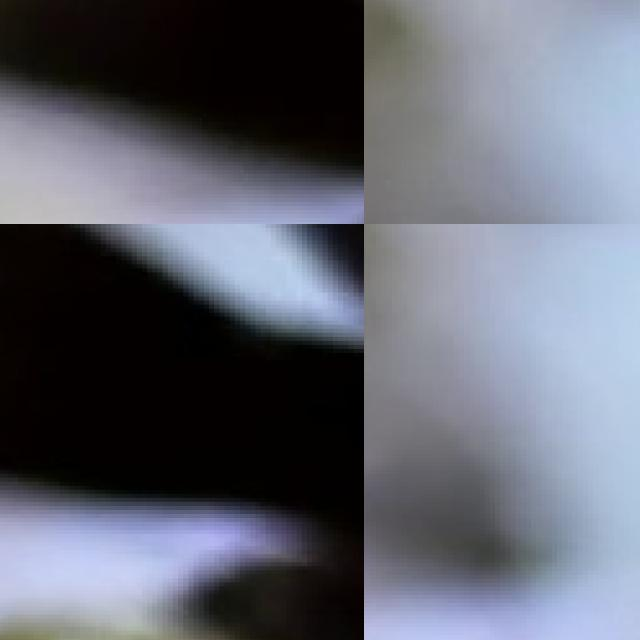fish: (0, 224, 364, 640), (0, 0, 364, 224)
